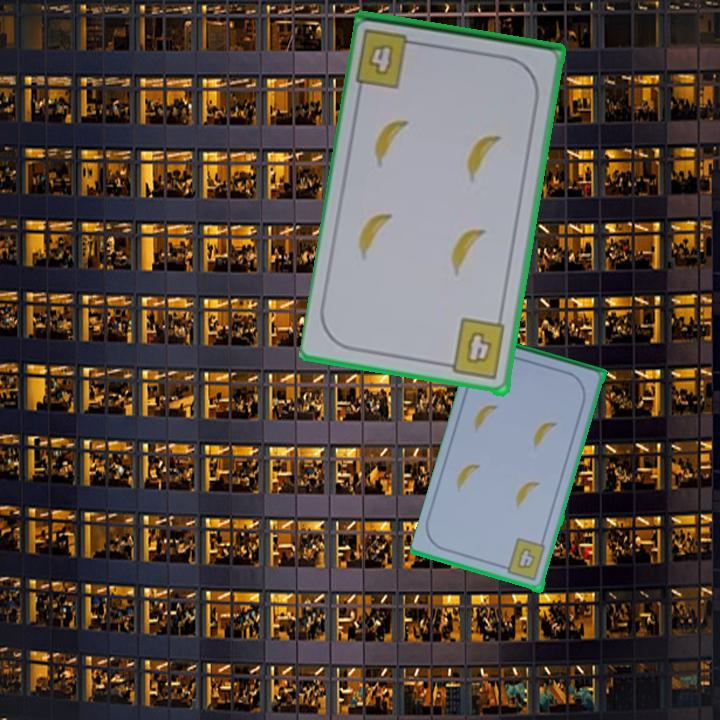4b: (439, 316, 508, 383), (499, 535, 549, 584), (365, 40, 397, 80)
